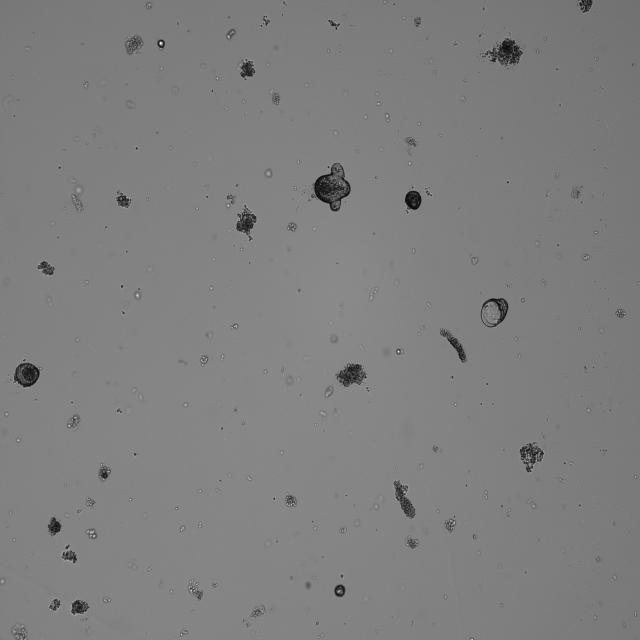alive: (311, 160, 353, 213), (478, 294, 512, 332), (12, 362, 43, 389), (404, 186, 424, 212), (333, 582, 347, 597)
dead: (482, 34, 524, 71), (513, 436, 548, 476), (390, 478, 421, 521), (232, 206, 259, 240), (333, 362, 366, 389), (70, 594, 92, 616), (46, 516, 66, 539), (240, 57, 258, 80), (98, 466, 117, 480)
